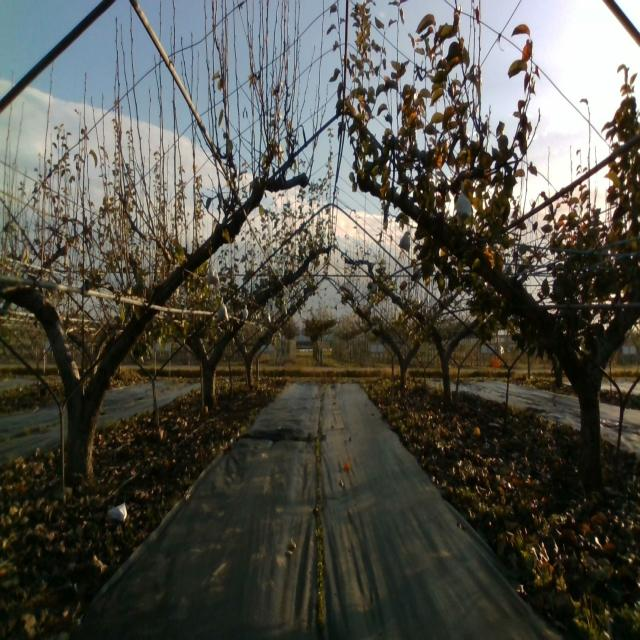pearbags: (454, 192, 472, 221), (206, 264, 221, 287), (215, 297, 229, 321), (399, 231, 410, 251)
